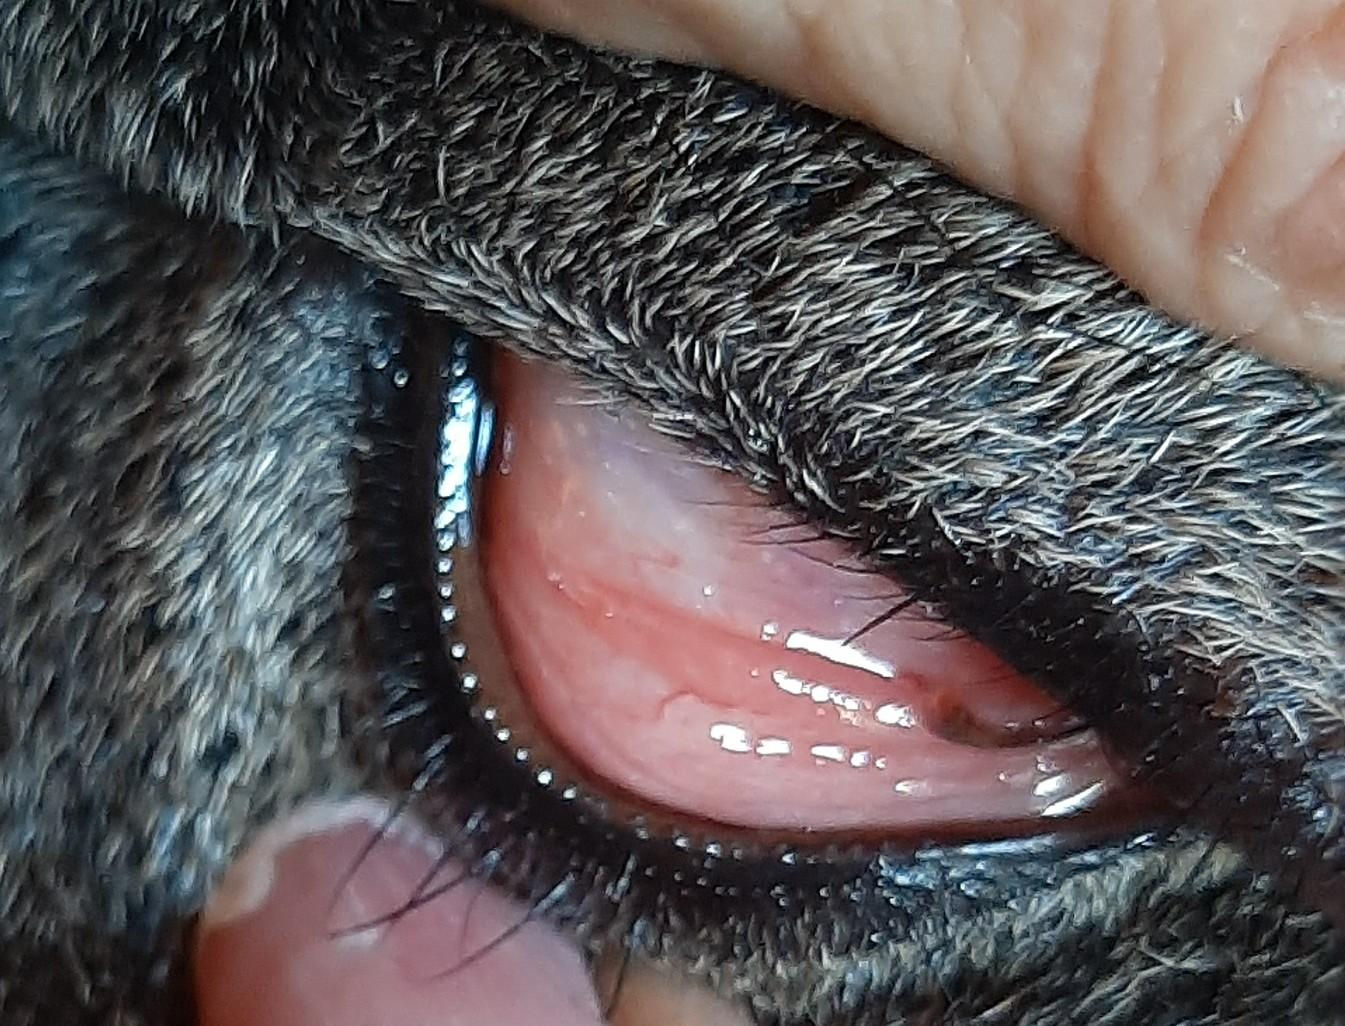eye_membrane: (488, 359, 1115, 823)
